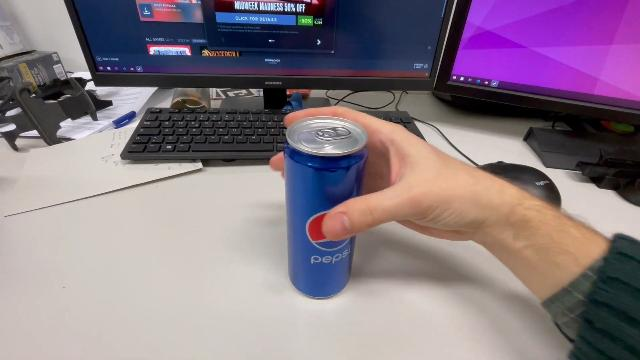Pepsi: (281, 113, 373, 302)
